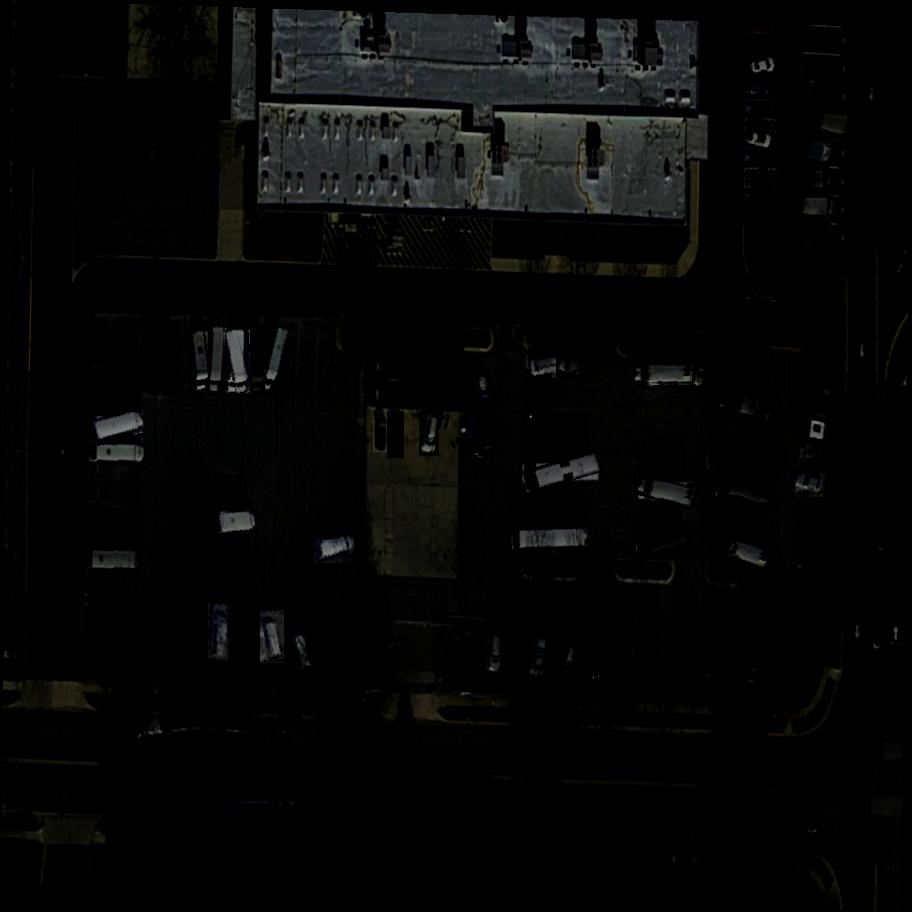large-vehicle: (130, 699, 255, 744), (522, 452, 601, 494), (206, 799, 295, 826), (712, 534, 774, 572), (714, 474, 772, 513), (637, 524, 695, 562), (221, 327, 253, 394), (259, 326, 290, 394), (512, 529, 589, 553), (637, 477, 696, 508), (719, 392, 775, 424), (91, 411, 144, 444), (188, 329, 210, 392), (796, 225, 837, 256), (314, 535, 357, 564), (103, 374, 142, 405), (246, 328, 264, 394), (88, 549, 140, 571), (90, 445, 144, 466), (814, 112, 853, 141), (636, 364, 691, 383), (214, 511, 257, 535), (210, 327, 224, 393), (797, 140, 832, 166), (798, 169, 831, 189), (803, 199, 833, 217)
small-vehicle: (284, 623, 314, 674), (244, 606, 270, 664), (261, 610, 285, 665), (759, 642, 786, 687), (208, 605, 229, 662), (527, 635, 553, 679), (511, 632, 535, 676), (555, 353, 592, 381), (794, 471, 828, 499), (601, 641, 624, 682), (499, 630, 522, 670), (545, 639, 569, 677), (420, 411, 440, 456), (692, 346, 712, 391), (524, 381, 556, 409), (558, 642, 582, 679), (388, 410, 406, 459), (585, 642, 607, 681), (793, 546, 828, 570), (526, 354, 559, 379), (718, 641, 738, 682), (747, 644, 766, 687), (477, 410, 493, 457), (798, 515, 828, 540), (704, 640, 721, 681), (746, 55, 776, 78), (804, 818, 833, 841), (746, 129, 774, 152), (635, 638, 649, 677), (372, 416, 387, 452), (742, 309, 768, 328), (488, 633, 500, 674), (620, 640, 633, 676), (736, 645, 749, 680), (476, 372, 491, 400), (748, 78, 771, 96), (744, 286, 769, 302)
